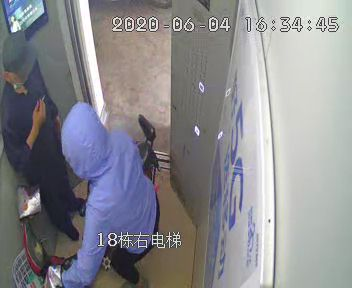Electric-bicycle: (10, 114, 157, 288)
